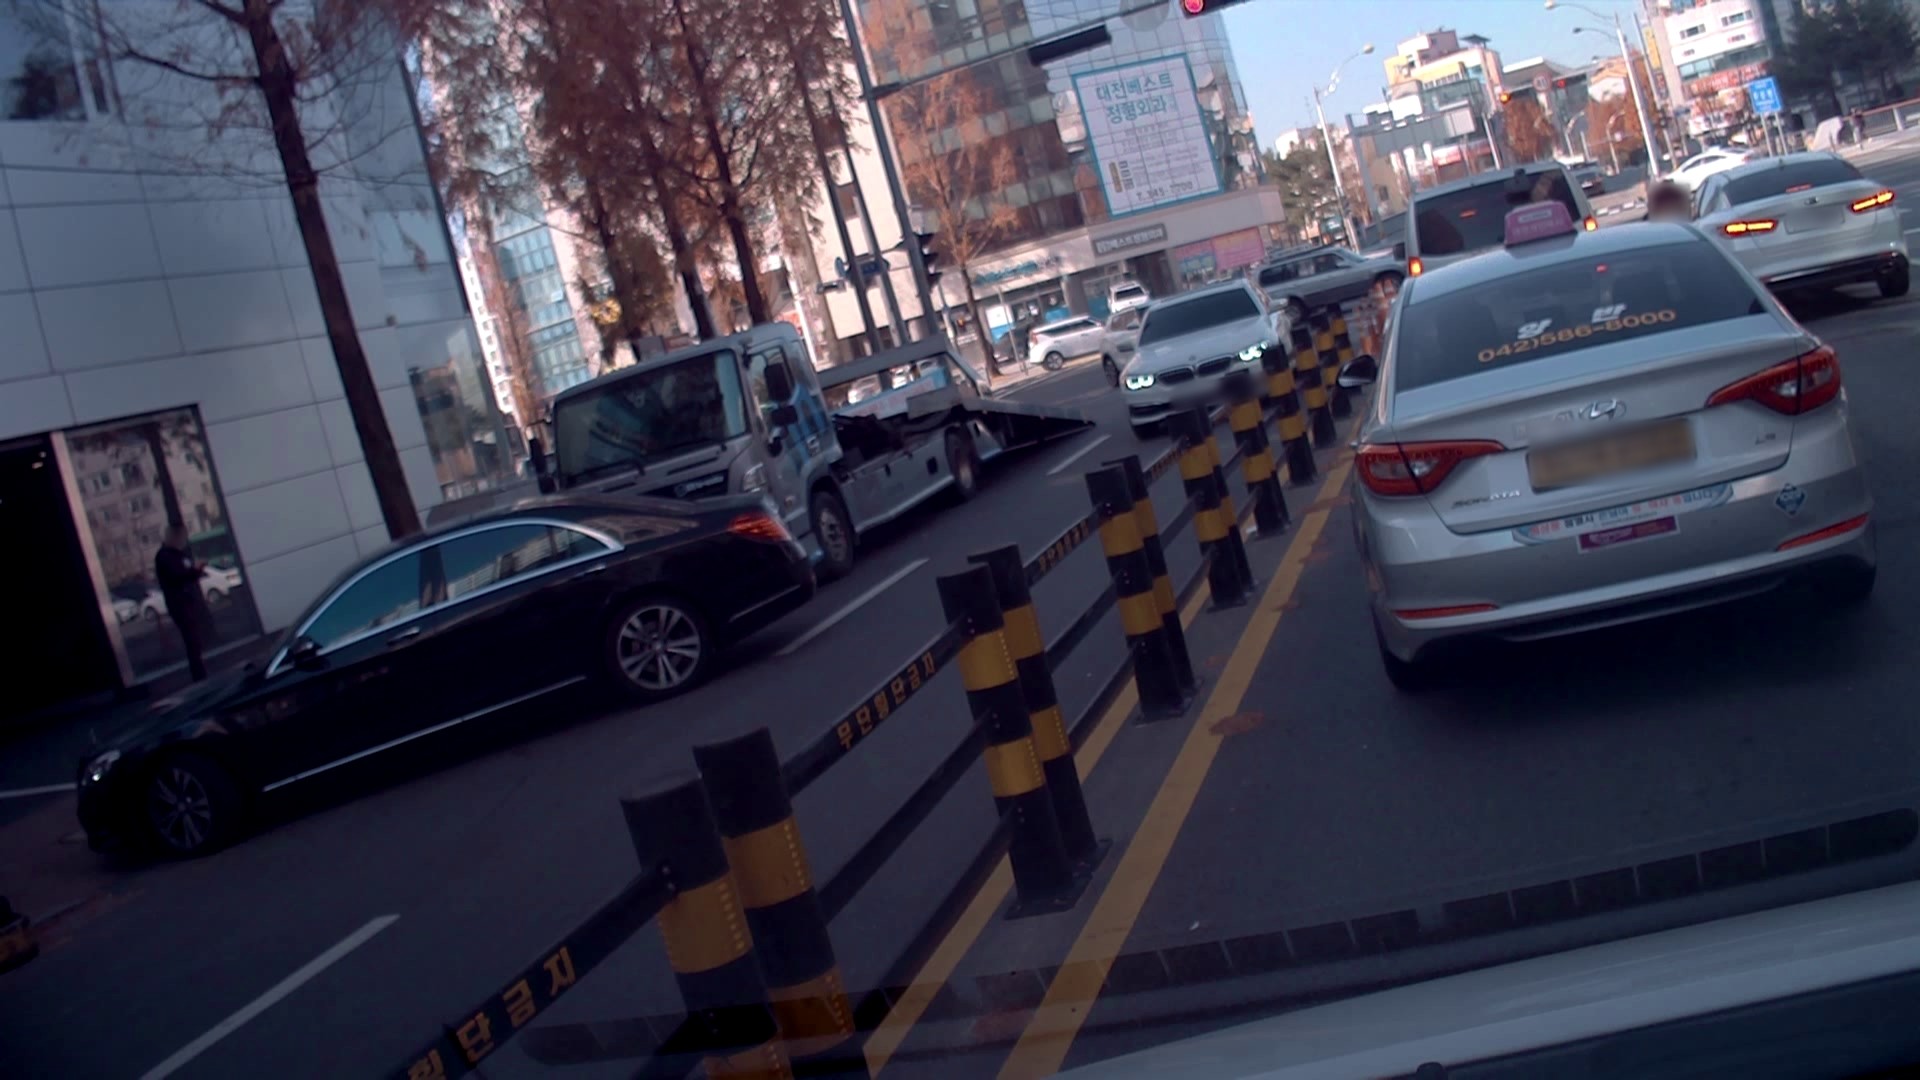trafficLight: (1495, 67, 1590, 109), (1174, 1, 1257, 18)
